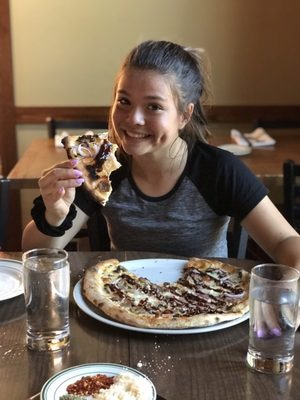sushi: (39, 362, 159, 400)
